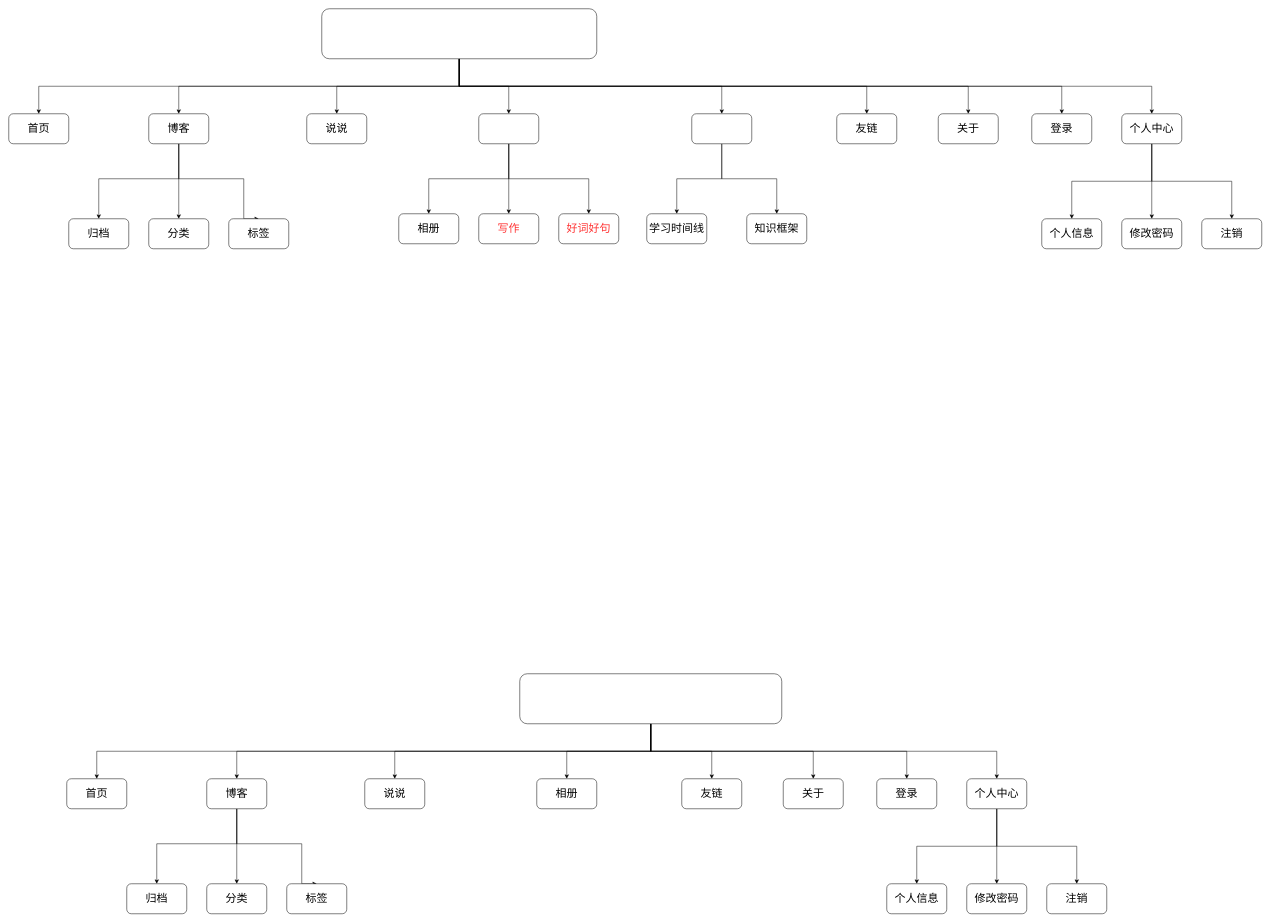
Some shapes in this 1271 by 923 pixel diagram are drawn without their labels. The box of each missing label's shape, as (x1, y1, x2, y2) in pixels:
GGBlog 博客 1.0: (519, 673, 782, 724)
GGBlog 博客（整体规划）: (321, 8, 597, 59)
娱乐: (478, 113, 539, 144)
规划: (691, 113, 752, 144)
